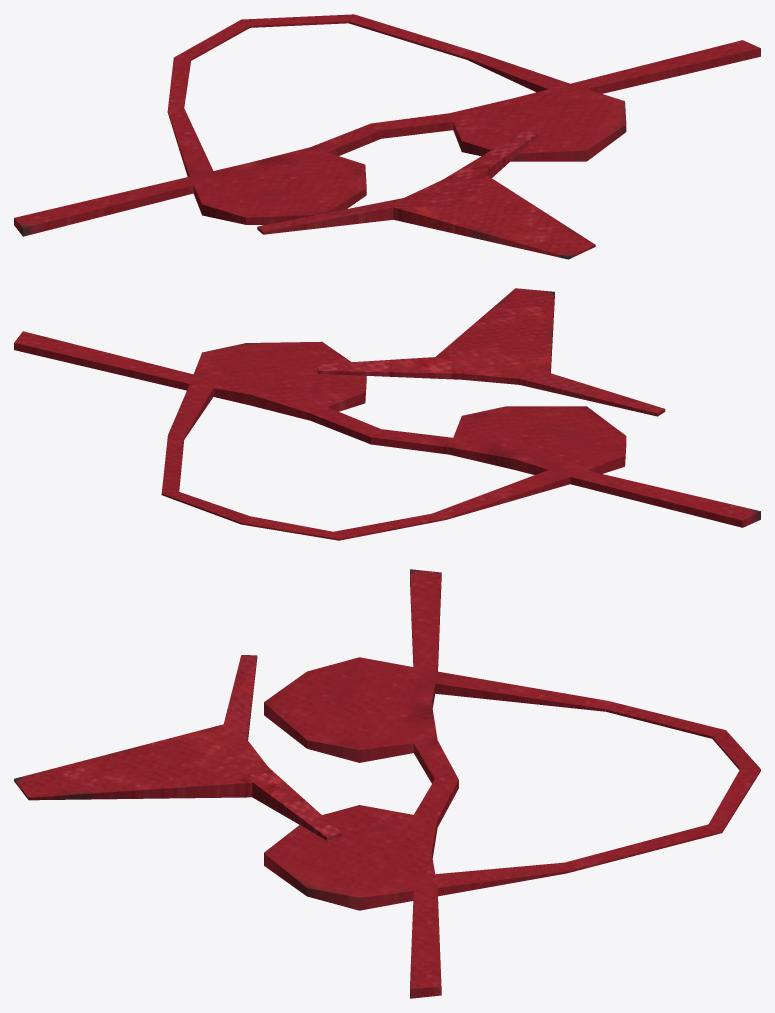
File: prop_underwear.fbx
3 renders of one model, top to bottom at view 1: azimuth 30°, elevation 25°; view 2: azimuth 150°, elevation 25°; view 3: azimuth 270°, elevation 25°, orthographic. The views are drawn at different scales.
Parts seen in each view (by area): view 1: underwear_GEO; view 2: underwear_GEO; view 3: underwear_GEO.
Boxes of the visible parts, box(x1,y1,x2,y2) form: underwear_GEO: box(14, 14, 760, 259); underwear_GEO: box(14, 288, 760, 540); underwear_GEO: box(14, 569, 760, 998).
Bounding box in the file's own units: 3.99 × 0.0956 × 3.
